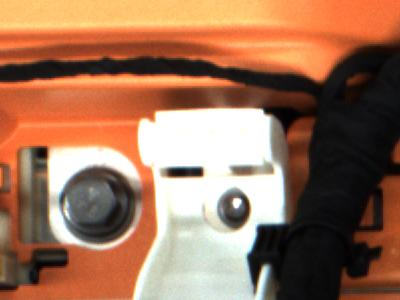nut_b: (56, 167, 138, 245)
